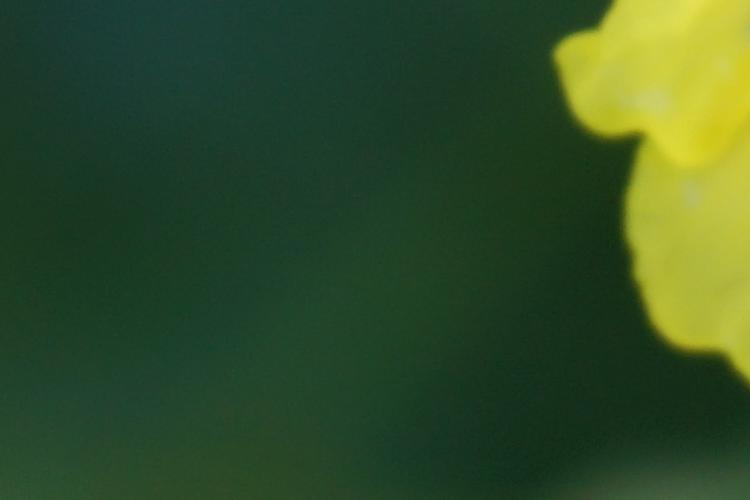yellow: (562, 24, 750, 356)
